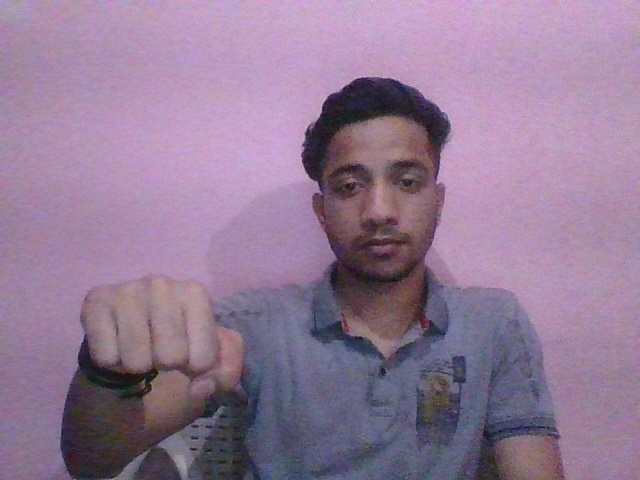yes: (77, 272, 249, 403)
